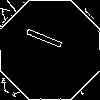I: (25, 25, 73, 55)
